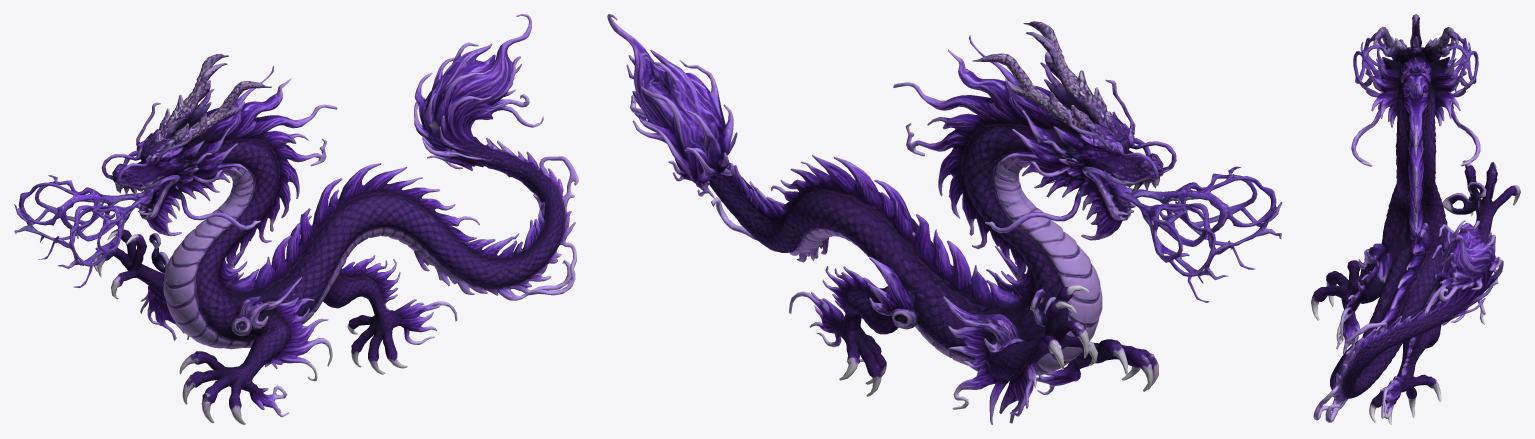
File: ember-dragon.glb
3 renders of one model, left to right at view 1: azimuth 30°, elevation 25°; view 2: azimuth 150°, elevation 25°; view 3: azimuth 270°, elevation 25°, orthographic. The views are drawn at different scales.
Visible parts, largest first — view 1: tripo_node_36798189-8feb-4d98-a008-50b55c3718bd; view 2: tripo_node_36798189-8feb-4d98-a008-50b55c3718bd; view 3: tripo_node_36798189-8feb-4d98-a008-50b55c3718bd.
Boxes of the visible parts, x1,y1,x2,y2 form: tripo_node_36798189-8feb-4d98-a008-50b55c3718bd: (14, 14, 578, 424); tripo_node_36798189-8feb-4d98-a008-50b55c3718bd: (607, 14, 1282, 424); tripo_node_36798189-8feb-4d98-a008-50b55c3718bd: (1311, 14, 1520, 424).
Bounding box in the file's own units: 1 × 0.6263 × 0.3554.
1 material, 1 textured.
